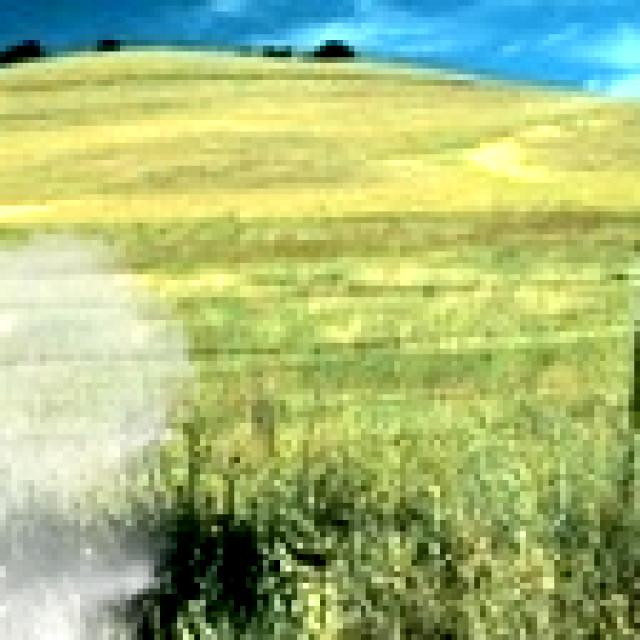smoke: (0, 217, 206, 640)
